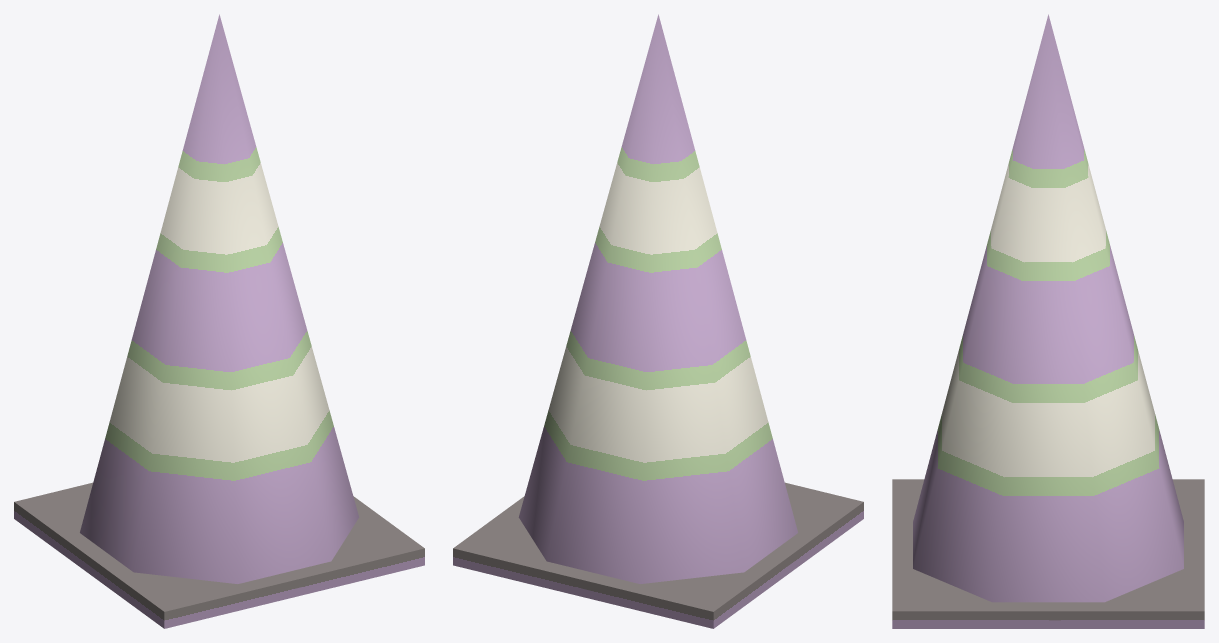
The model's file is 019a_Small_Pylon.glb.
The picture shows the model from 3 angles, left to right: view 1: azimuth 30°, elevation 25°; view 2: azimuth 150°, elevation 25°; view 3: azimuth 270°, elevation 25°; orthographic projection. The views are drawn at different scales.
Parts seen in each view (by area): view 1: part_0; view 2: part_0; view 3: part_0.
Boxes of the visible parts, x1,y1,x2,y2 form: part_0: (14,14,424,628); part_0: (453,14,863,628); part_0: (892,14,1204,628).
Bounding box in the file's own units: 0.129 × 0.25 × 0.129.
1 material, 1 textured.
